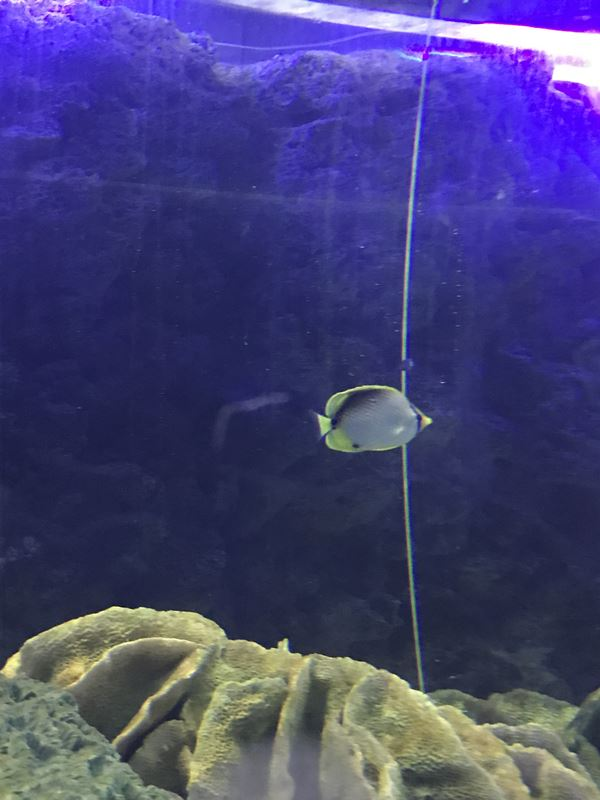Black-backed butterflyfish: (300, 380, 444, 464)
